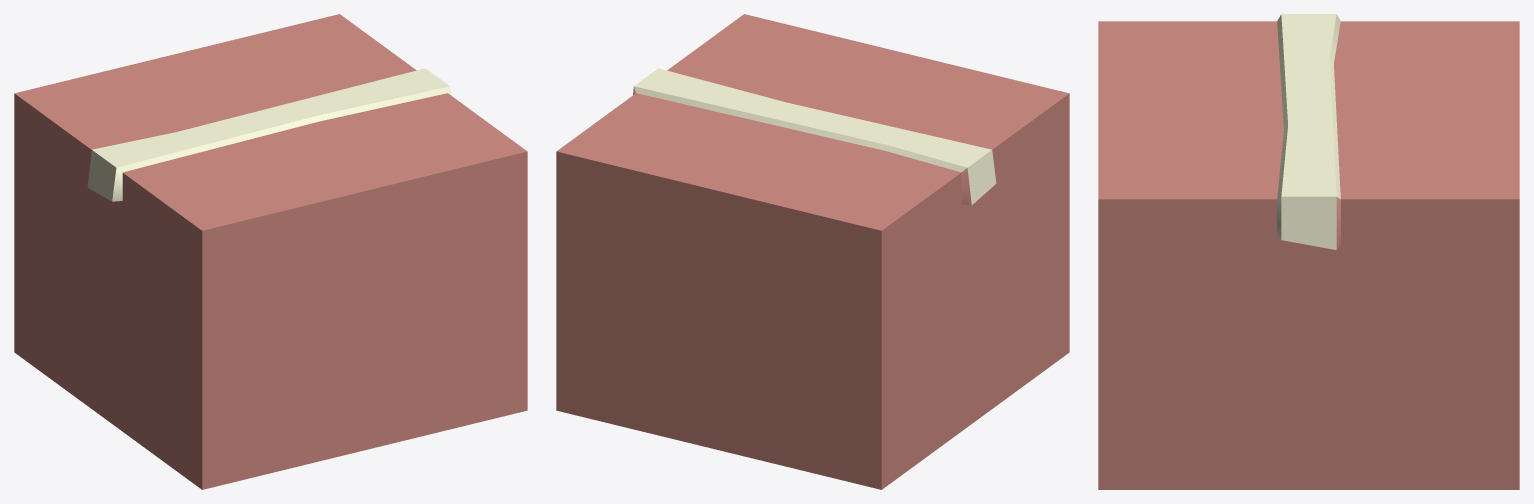
3 renders of one model, left to right at view 1: azimuth 30°, elevation 25°; view 2: azimuth 150°, elevation 25°; view 3: azimuth 270°, elevation 25°, orthographic. The views are drawn at different scales.
Parts seen in each view (by area): view 1: SM_Prop_CarboardBox_02; view 2: SM_Prop_CarboardBox_02; view 3: SM_Prop_CarboardBox_02.
Part boxes in pixels (x1,y1,x2,y2): SM_Prop_CarboardBox_02: (14,14,527,489); SM_Prop_CarboardBox_02: (556,14,1069,489); SM_Prop_CarboardBox_02: (1098,14,1519,489).
Size of the model in its own units: 0.6285 by 0.4626 by 0.5975.
